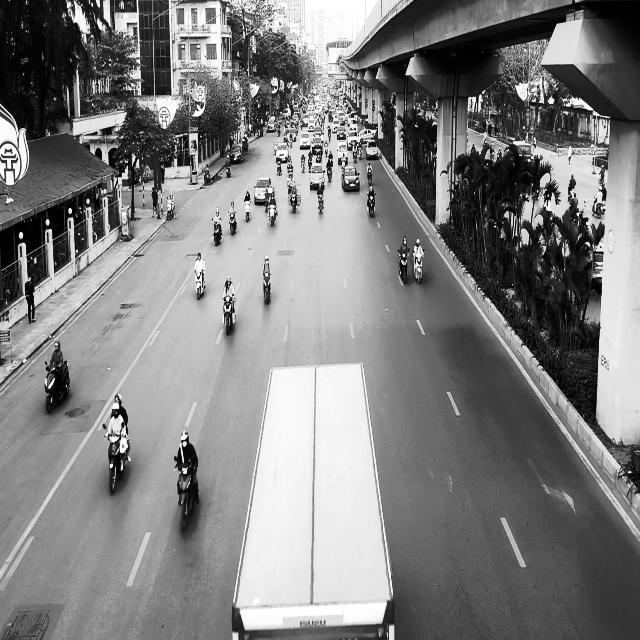car: (254, 177, 273, 204), (341, 166, 360, 191), (309, 163, 325, 190), (366, 138, 378, 158)
motorbike: (102, 423, 130, 494), (174, 457, 198, 531), (44, 359, 70, 413), (222, 295, 236, 336), (398, 248, 410, 284), (412, 248, 424, 284), (194, 266, 206, 300), (366, 188, 376, 217), (262, 273, 271, 305), (266, 202, 278, 226), (212, 219, 222, 246), (289, 188, 299, 214), (228, 212, 236, 235), (317, 188, 324, 214), (243, 198, 250, 222)
truck: (230, 362, 396, 639)
